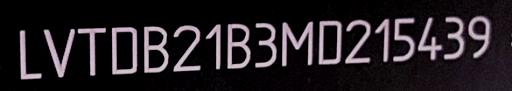letter: (42, 25, 76, 80), (280, 18, 316, 67), (107, 24, 139, 77), (76, 25, 108, 78), (170, 23, 202, 72), (141, 23, 171, 74), (344, 16, 372, 67), (224, 20, 252, 71), (18, 26, 44, 79), (416, 15, 444, 64), (466, 13, 494, 60), (390, 16, 418, 63), (315, 18, 343, 65), (440, 14, 466, 63), (252, 20, 278, 69), (372, 16, 392, 65), (203, 20, 223, 69)
